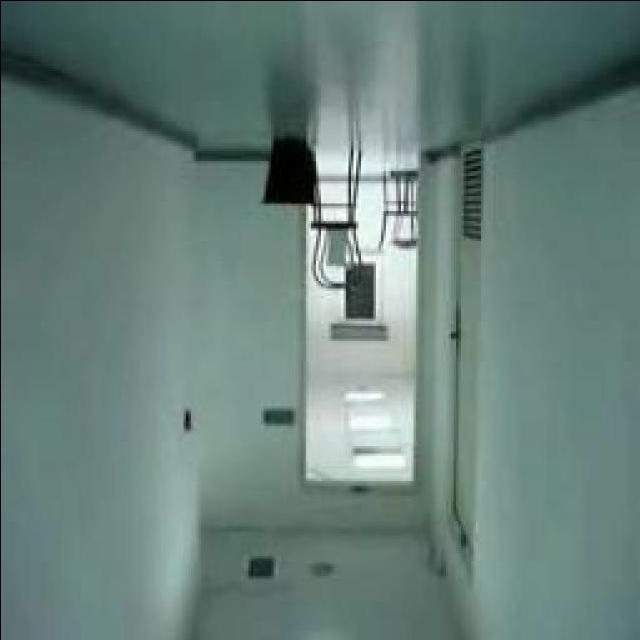Fire: (291, 201, 296, 211)
